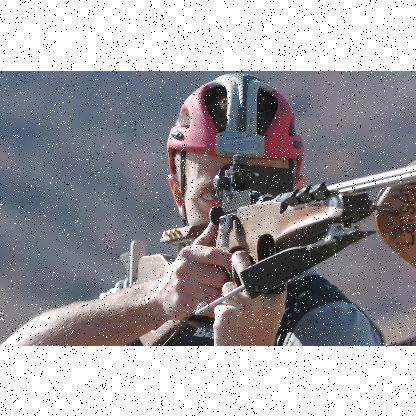gun: (108, 116, 404, 318)
